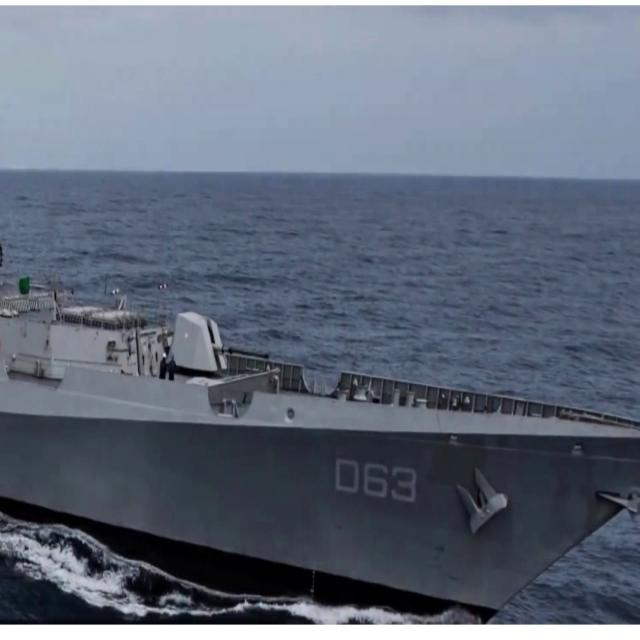OCR: (332, 448, 421, 509)
